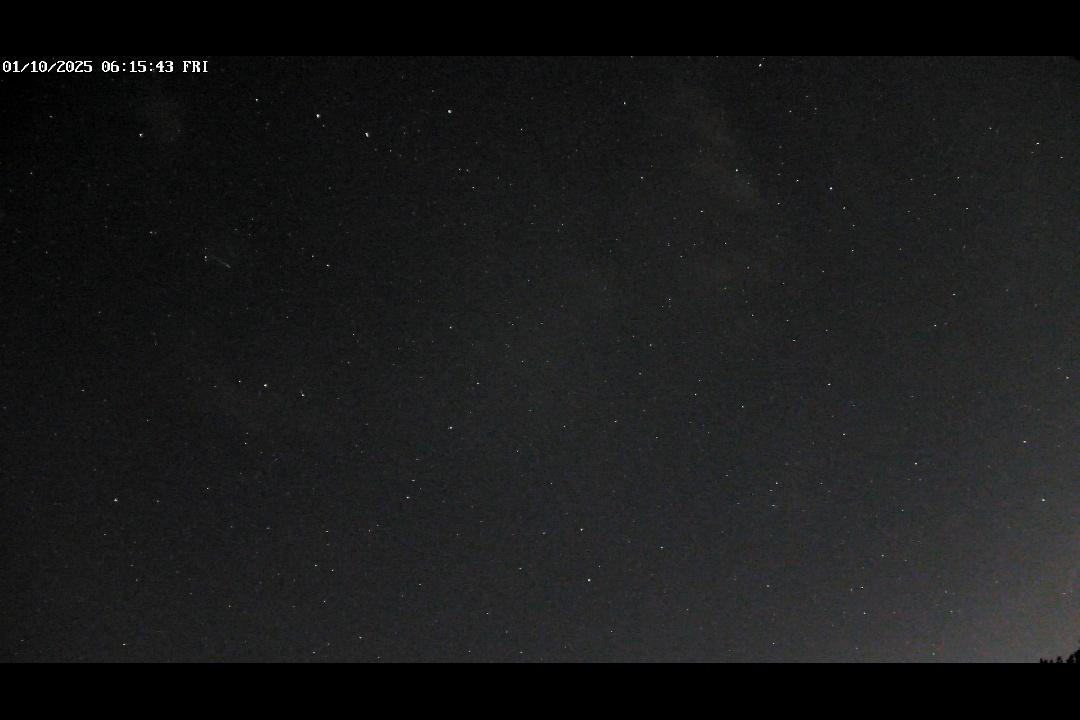Plane: (207, 254, 237, 272)
